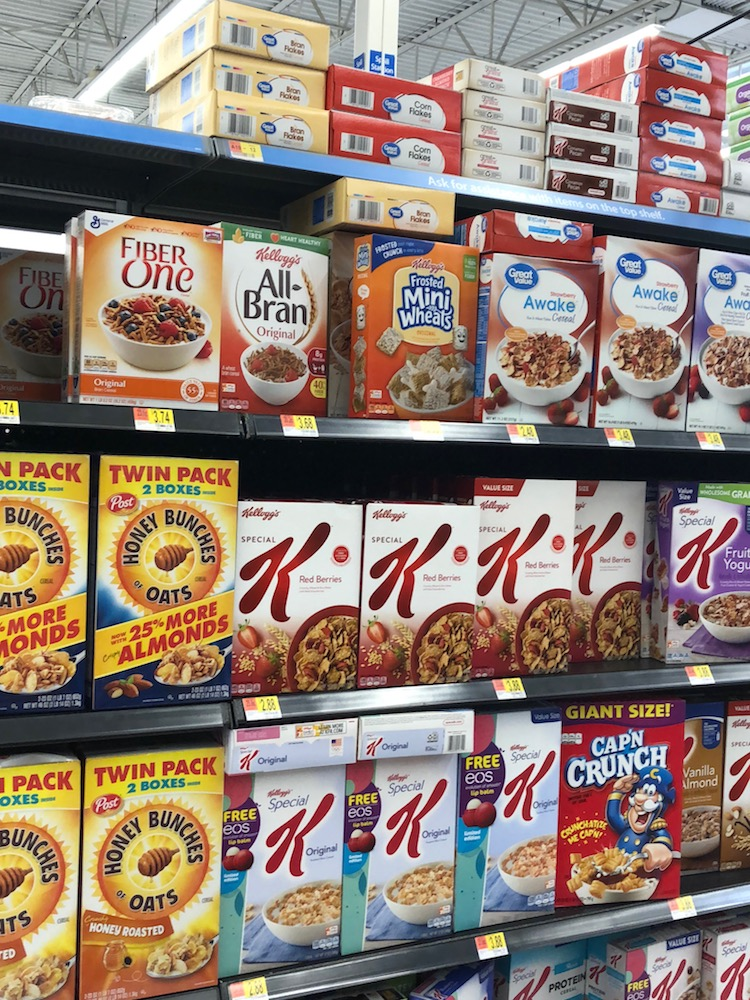Frosted Mini Original -9295869: (354, 237, 479, 413)
